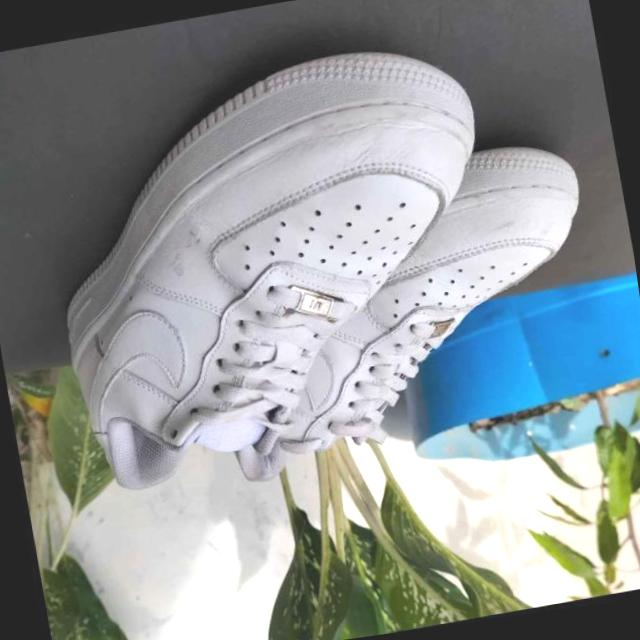nike_original_airforce: (0, 29, 530, 508), (182, 130, 623, 486)
